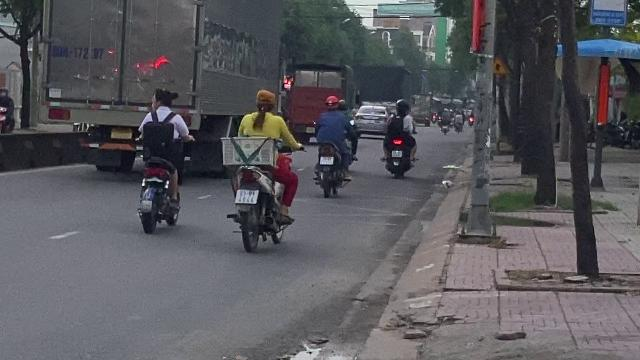licenseplate: (235, 189, 257, 203)
motorcyclist: (221, 87, 301, 251), (132, 86, 190, 233)
nohelmet: (253, 88, 275, 112), (150, 88, 172, 110)
